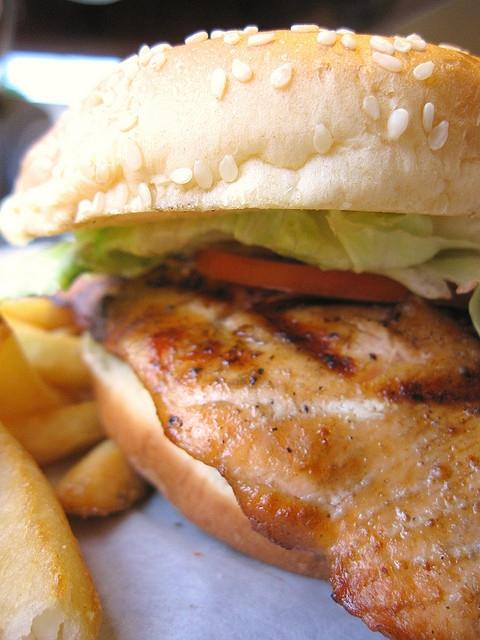lettuce: (35, 210, 480, 290)
tomato: (195, 240, 409, 302)
